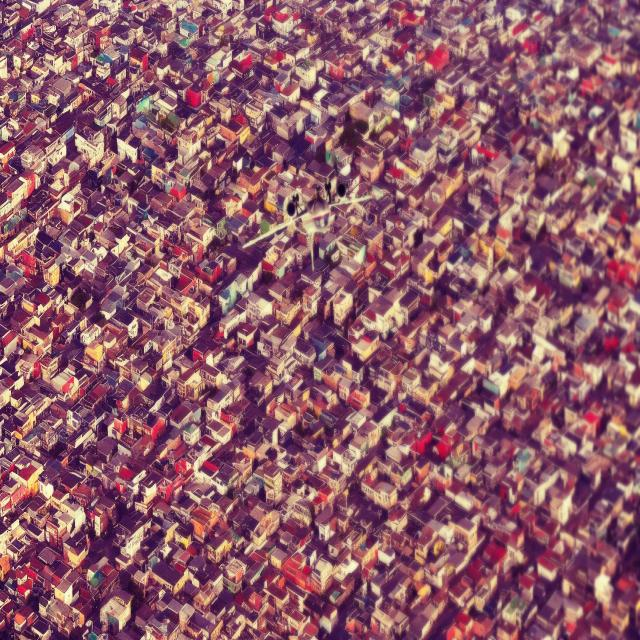airplane: (242, 178, 374, 272)
